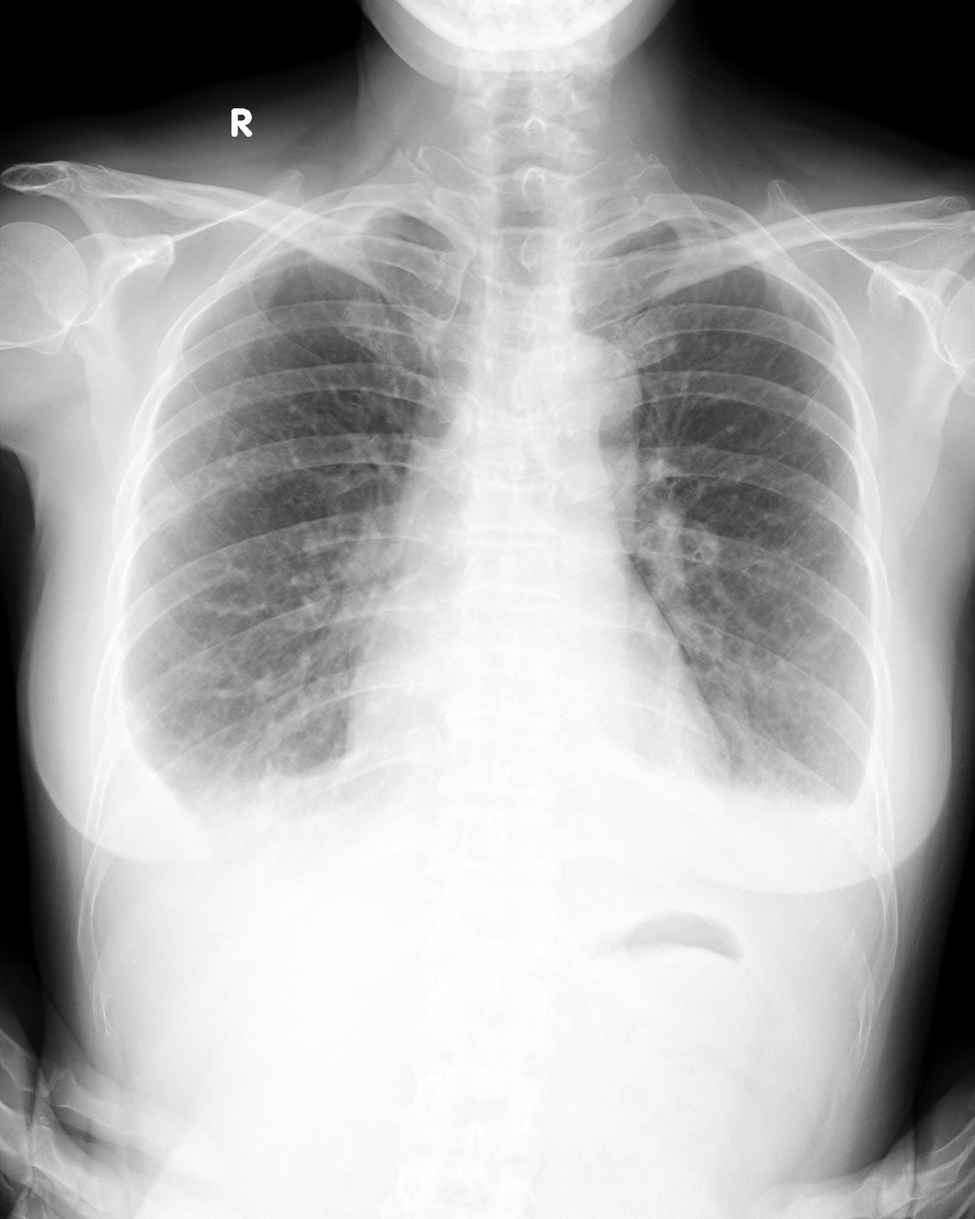Aortic enlargement: (538, 336, 638, 497)
